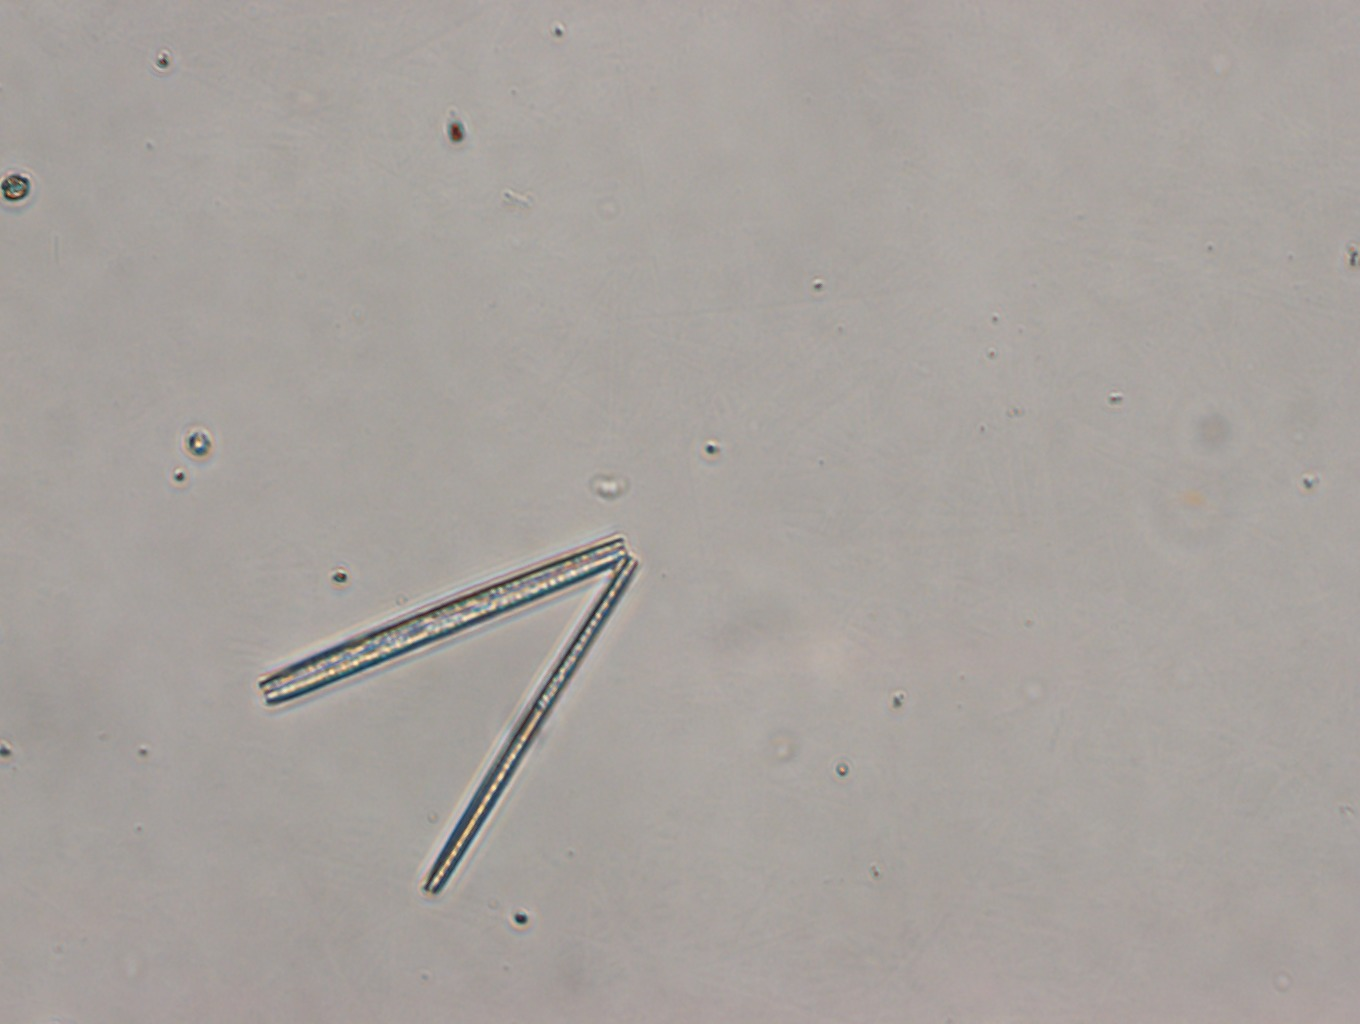thalassionema frauenfeldii: (252, 531, 649, 895)
